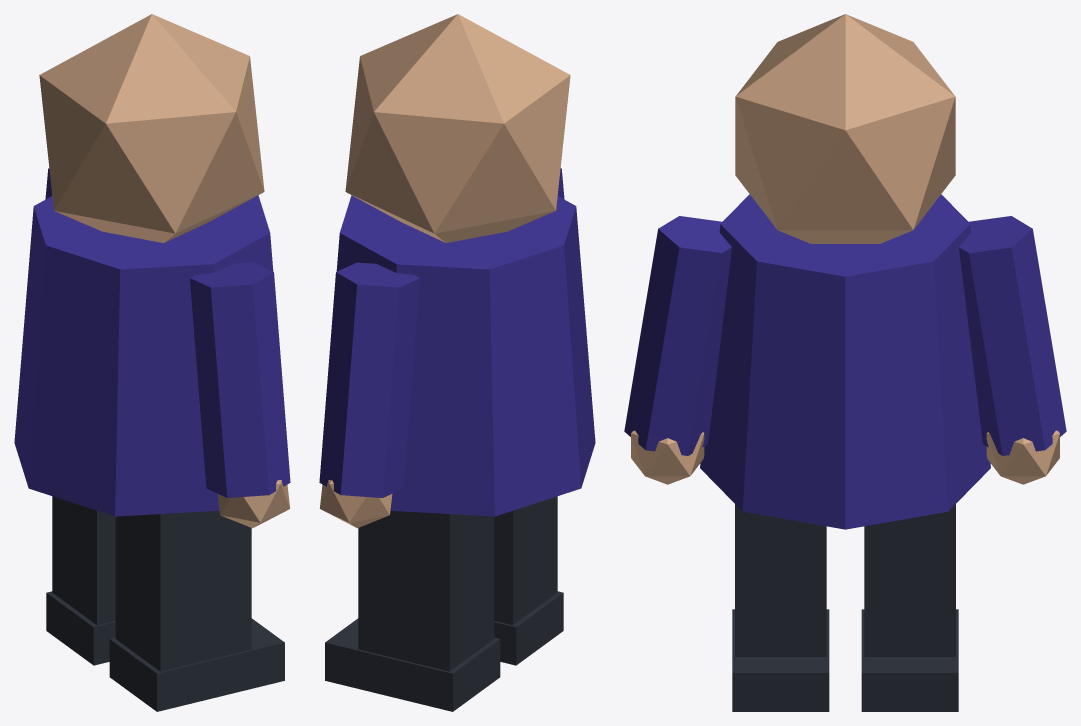
The model's file is manager.glb.
The picture shows the model from 3 angles, left to right: view 1: azimuth 30°, elevation 25°; view 2: azimuth 150°, elevation 25°; view 3: azimuth 270°, elevation 25°; orthographic projection. The views are drawn at different scales.
Visible parts, largest first — view 1: manager; view 2: manager; view 3: manager.
Part boxes in pixels (left/top/right/bottom): manager: left=14, top=14, right=290, bottom=711; manager: left=319, top=14, right=595, bottom=711; manager: left=624, top=14, right=1066, bottom=711.
Bounding box in the file's own units: 0.54 × 1.35 × 0.821.
